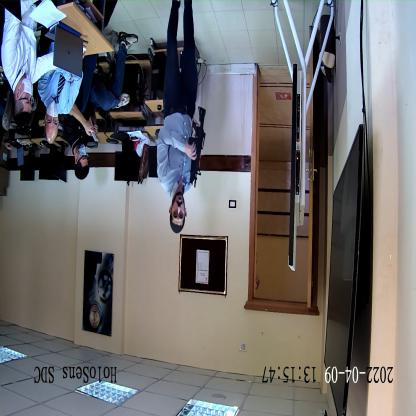handgun: (190, 105, 208, 181)
